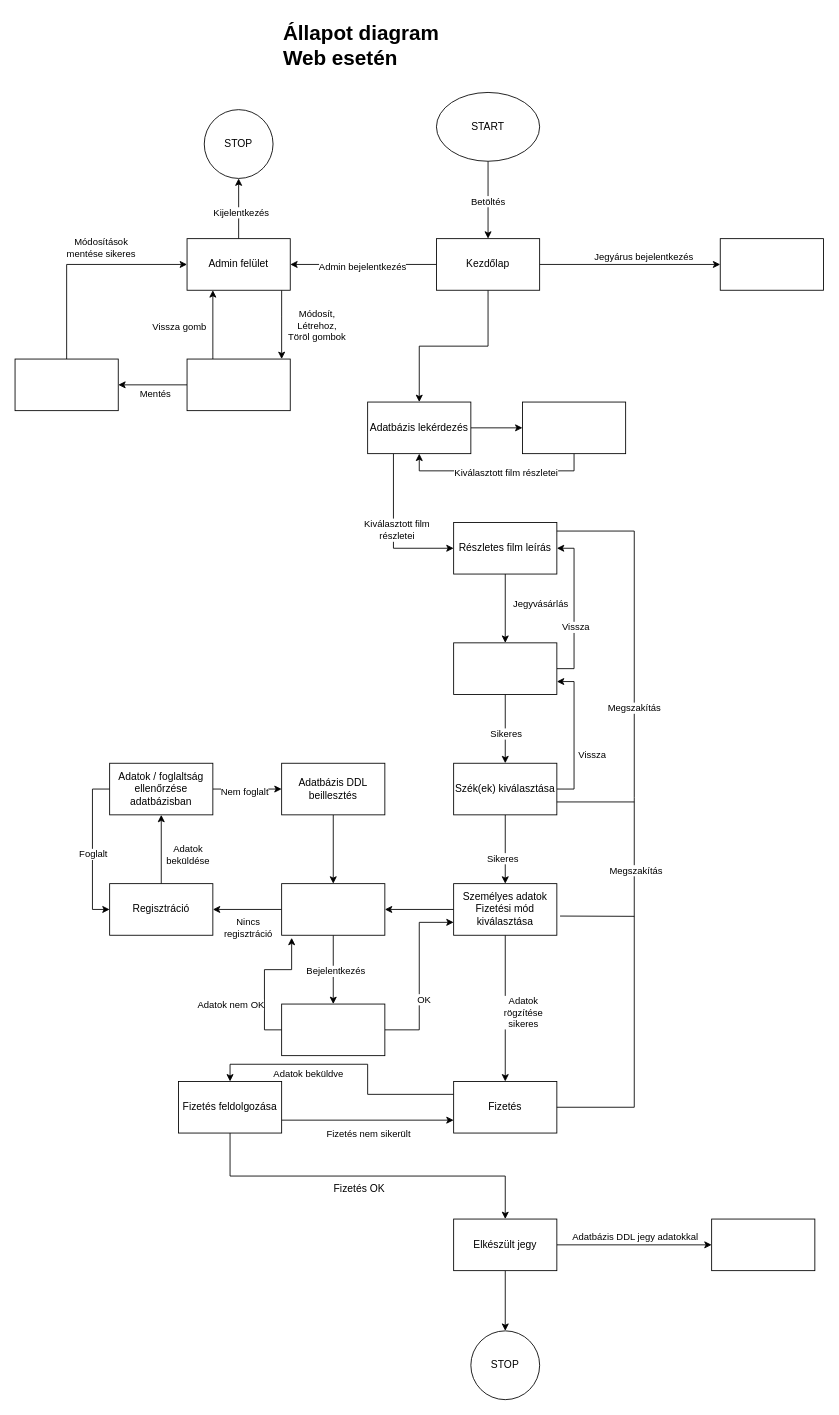
The diagram is 839 pixels wide and 1415 high, and some of its shapes have lost their labels. Each missing label, with the centre of its shape:
"Adatbázis" goes at [763,1244].
"Adatbázis DDL" goes at [66,384].
"Adatok ellenőrzése adatbázisban" goes at [333,1029].
"Film létrehozás, módosítás Vetítés létrehozás, módosítás" goes at [238,384].
"Filmek listázása" goes at [574,427].
"Jegyárus felület" goes at [771,264].
"Nincs bejelentkezve Bejelentkezés" goes at [333,909].
"Vetítés kiválasztása" goes at [505,668].
